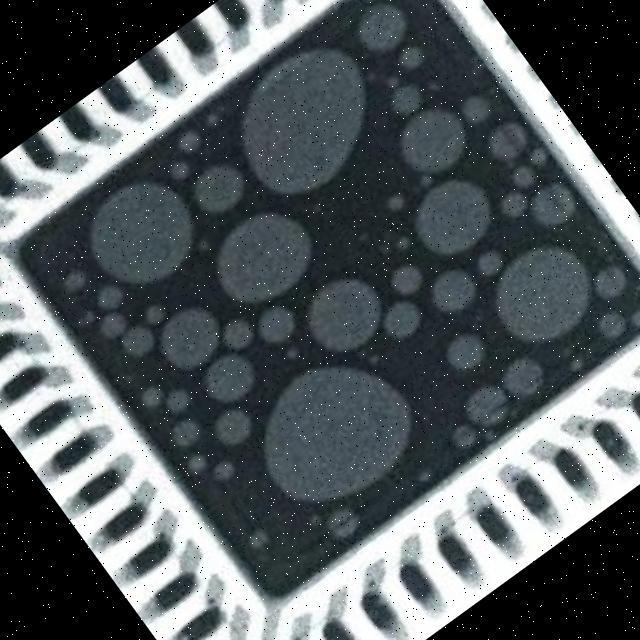chip: (0, 0, 640, 610)
void: (259, 360, 416, 500), (237, 43, 368, 195), (85, 175, 193, 283), (489, 244, 593, 344), (212, 206, 317, 301), (411, 174, 494, 256), (305, 270, 380, 349), (391, 105, 466, 173), (157, 303, 222, 369), (194, 160, 247, 217), (527, 177, 577, 231), (354, 0, 409, 48), (201, 352, 257, 399), (430, 268, 482, 317), (460, 381, 510, 428), (482, 116, 532, 162), (500, 350, 545, 397), (383, 296, 426, 338), (444, 330, 483, 371), (385, 259, 425, 297), (587, 261, 627, 299), (211, 407, 252, 442), (255, 306, 292, 344), (222, 311, 255, 351), (497, 185, 528, 224), (596, 306, 627, 343), (325, 506, 359, 539), (457, 91, 492, 123), (388, 84, 423, 115), (120, 325, 152, 356), (166, 417, 202, 444), (135, 376, 162, 408), (97, 308, 126, 337), (396, 41, 423, 72), (472, 249, 501, 277), (174, 128, 203, 155), (511, 160, 537, 189), (140, 297, 166, 326), (164, 386, 190, 414), (244, 521, 270, 548), (451, 420, 476, 448), (211, 459, 238, 483), (97, 282, 120, 310), (182, 453, 208, 473)
